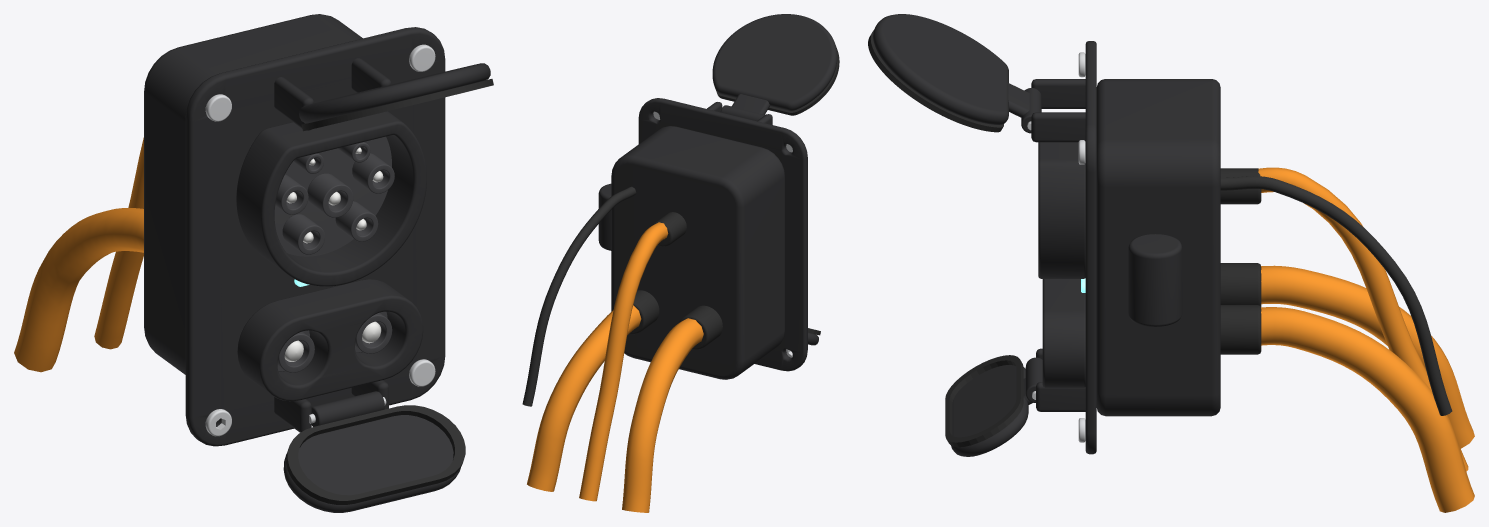
File: charge_port.glb
3 views of the same model, side by side, from view 1: azimuth 30°, elevation 25°; view 2: azimuth 150°, elevation 25°; view 3: azimuth 270°, elevation 25° (orthographic). The views are drawn at different scales.
Parts seen in each view (by area): view 1: charge_port__mounting_flange, charge_port__rear_housing, charge_port__ac_socket_shroud, charge_port__dc_socket_shroud, charge_port__hv_cables, charge_port__dc_cap, charge_port__ac_pin_sleeves, charge_port__dc_cap_seal, charge_port__ac_socket_face, charge_port__ac_cap, charge_port__hinge_brackets, charge_port__flange_screws (+5 smaller); view 2: charge_port__rear_housing, charge_port__hv_cables, charge_port__mounting_flange, charge_port__ac_cap, charge_port__signal_cable, charge_port__cable_boots, charge_port__lock_actuator, charge_port__ac_cap_seal; view 3: charge_port__rear_housing, charge_port__hv_cables, charge_port__ac_cap, charge_port__ac_socket_shroud, charge_port__mounting_flange, charge_port__cable_boots, charge_port__lock_actuator, charge_port__signal_cable, charge_port__dc_socket_shroud, charge_port__dc_cap, charge_port__hinge_brackets, charge_port__dc_cap_seal (+1 smaller).
Boxes of the visible parts, <box> form: charge_port__mounting_flange: <box>185,27,445,446</box>; charge_port__rear_housing: <box>144,14,362,374</box>; charge_port__ac_socket_shroud: <box>236,111,426,286</box>; charge_port__dc_socket_shroud: <box>237,279,423,401</box>; charge_port__hv_cables: <box>14,137,143,372</box>; charge_port__dc_cap: <box>283,415,460,512</box>; charge_port__ac_pin_sleeves: <box>275,142,394,254</box>; charge_port__dc_cap_seal: <box>286,405,465,504</box>; charge_port__ac_socket_face: <box>274,136,391,256</box>; charge_port__ac_cap: <box>299,63,490,123</box>; charge_port__hinge_brackets: <box>274,58,391,432</box>; charge_port__flange_screws: <box>205,44,435,436</box>; charge_port__rear_housing: <box>611,126,784,379</box>; charge_port__hv_cables: <box>527,222,703,512</box>; charge_port__mounting_flange: <box>638,98,807,371</box>; charge_port__ac_cap: <box>712,14,837,114</box>; charge_port__signal_cable: <box>522,186,636,406</box>; charge_port__cable_boots: <box>629,212,722,349</box>; charge_port__lock_actuator: <box>598,183,611,250</box>; charge_port__ac_cap_seal: <box>716,47,839,115</box>; charge_port__rear_housing: <box>1096,79,1220,416</box>; charge_port__hv_cables: <box>1258,167,1474,512</box>; charge_port__ac_cap: <box>873,14,1029,124</box>; charge_port__ac_socket_shroud: <box>1038,142,1085,278</box>; charge_port__mounting_flange: <box>1085,41,1096,454</box>; charge_port__cable_boots: <box>1220,168,1261,354</box>; charge_port__lock_actuator: <box>1128,234,1182,326</box>; charge_port__signal_cable: <box>1220,176,1452,415</box>; charge_port__dc_socket_shroud: <box>1042,279,1085,387</box>; charge_port__dc_cap: <box>951,365,1032,456</box>; charge_port__hinge_brackets: <box>1031,79,1085,411</box>; charge_port__dc_cap_seal: <box>945,355,1023,447</box>.
Bounding box in the file's own units: 12.6 × 22.04 × 26.93.
